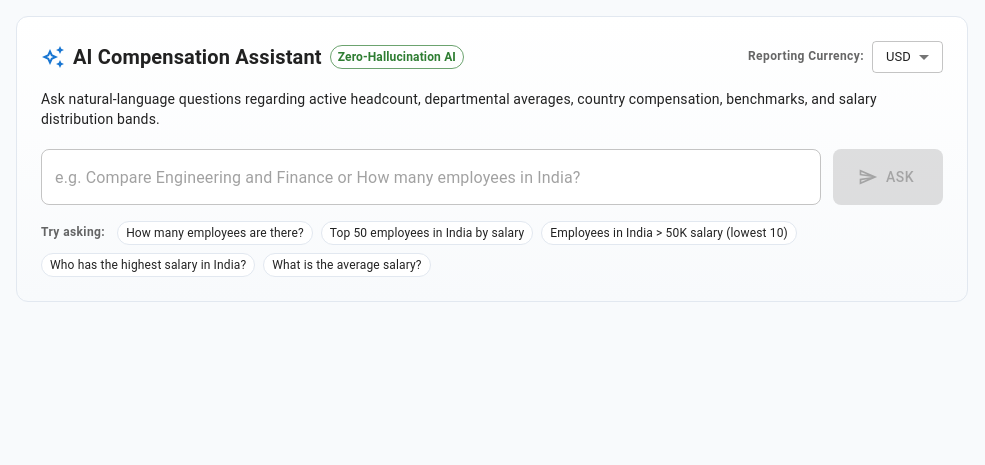
Test: CompensationAssistant Component › executes question on Enter key press
This screenshot has width=985, height=465.
Step 1. Type "What is the average salary?" into the field with placeholder "e.g. Compare Engineering and Finance" → (431, 177), box left=41, top=149, right=821, bottom=205
Then press Enter
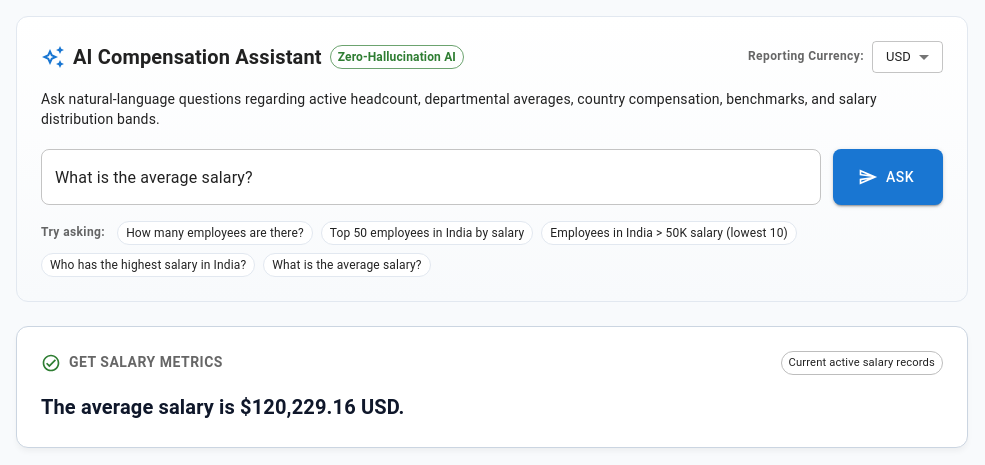
expect the heading "The average salary is $120,229.16 USD." is shown: met, box left=41, top=395, right=405, bottom=419
